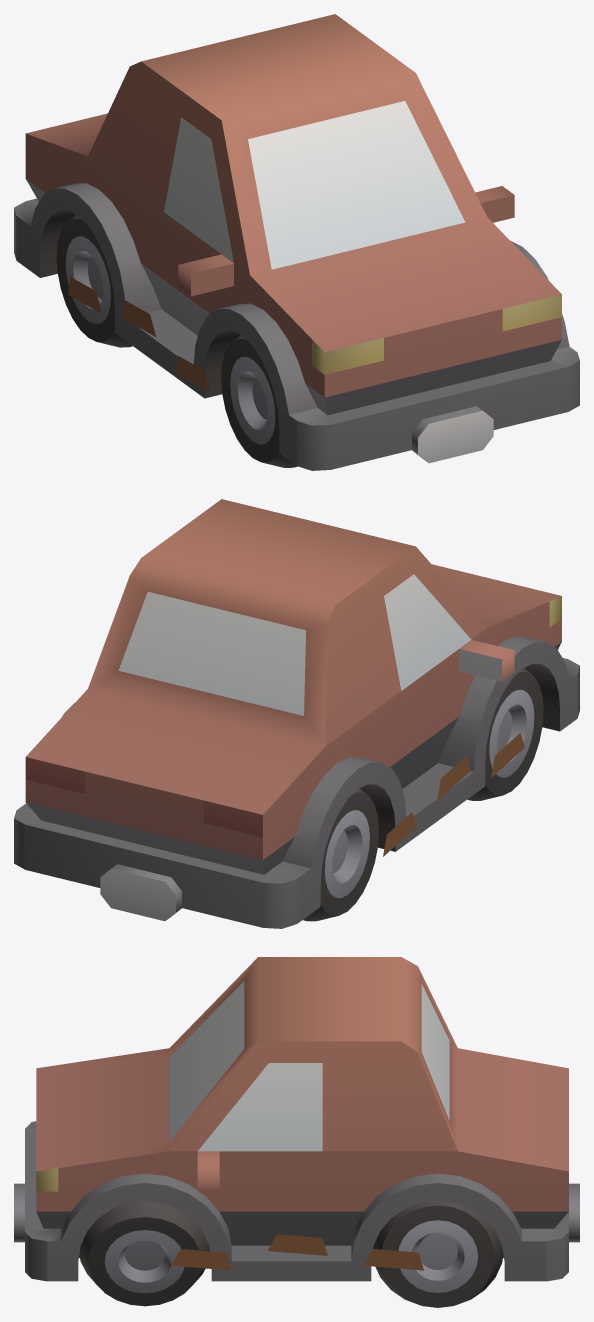
The model's file is ap_coche_1.glb.
3 renders of one model, top to bottom at view 1: azimuth 30°, elevation 25°; view 2: azimuth 150°, elevation 25°; view 3: azimuth 270°, elevation 25°, orthographic. The views are drawn at different scales.
Parts seen in each view (by area): view 1: body, wheel-front-right, wheel-back-right, Chapa_oxidada.002, Chapa_oxidada, Chapa_oxidada.001; view 2: body, wheel-back-right, wheel-front-right, Chapa_oxidada.002, Chapa_oxidada.001, Chapa_oxidada; view 3: body, wheel-back-left, wheel-front-left, Chapa_oxidada.004, Chapa_oxidada.003, Chapa_oxidada.005.
Boxes of the visible parts, x1=… form: body: x1=14, y1=14, x2=579, y2=470; wheel-front-right: x1=221, y1=335, x2=297, y2=467; wheel-back-right: x1=56, y1=214, x2=132, y2=347; Chapa_oxidada.002: x1=68, y1=277, x2=101, y2=313; Chapa_oxidada: x1=176, y1=356, x2=209, y2=392; Chapa_oxidada.001: x1=122, y1=300, x2=155, y2=336; body: x1=14, y1=499, x2=579, y2=928; wheel-back-right: x1=303, y1=788, x2=378, y2=921; wheel-front-right: x1=467, y1=668, x2=543, y2=800; Chapa_oxidada.002: x1=383, y1=812, x2=416, y2=856; Chapa_oxidada.001: x1=437, y1=756, x2=470, y2=800; Chapa_oxidada: x1=491, y1=733, x2=524, y2=777; body: x1=14, y1=957, x2=579, y2=1281; wheel-back-left: x1=373, y1=1201, x2=503, y2=1307; wheel-front-left: x1=79, y1=1201, x2=209, y2=1306; Chapa_oxidada.004: x1=267, y1=1234, x2=327, y2=1255; Chapa_oxidada.003: x1=171, y1=1249, x2=231, y2=1270; Chapa_oxidada.005: x1=364, y1=1249, x2=423, y2=1270.
Bounding box in the file's own units: 2.47 × 2.14 × 4.21.
Materials: 6 (5 with a texture image).
